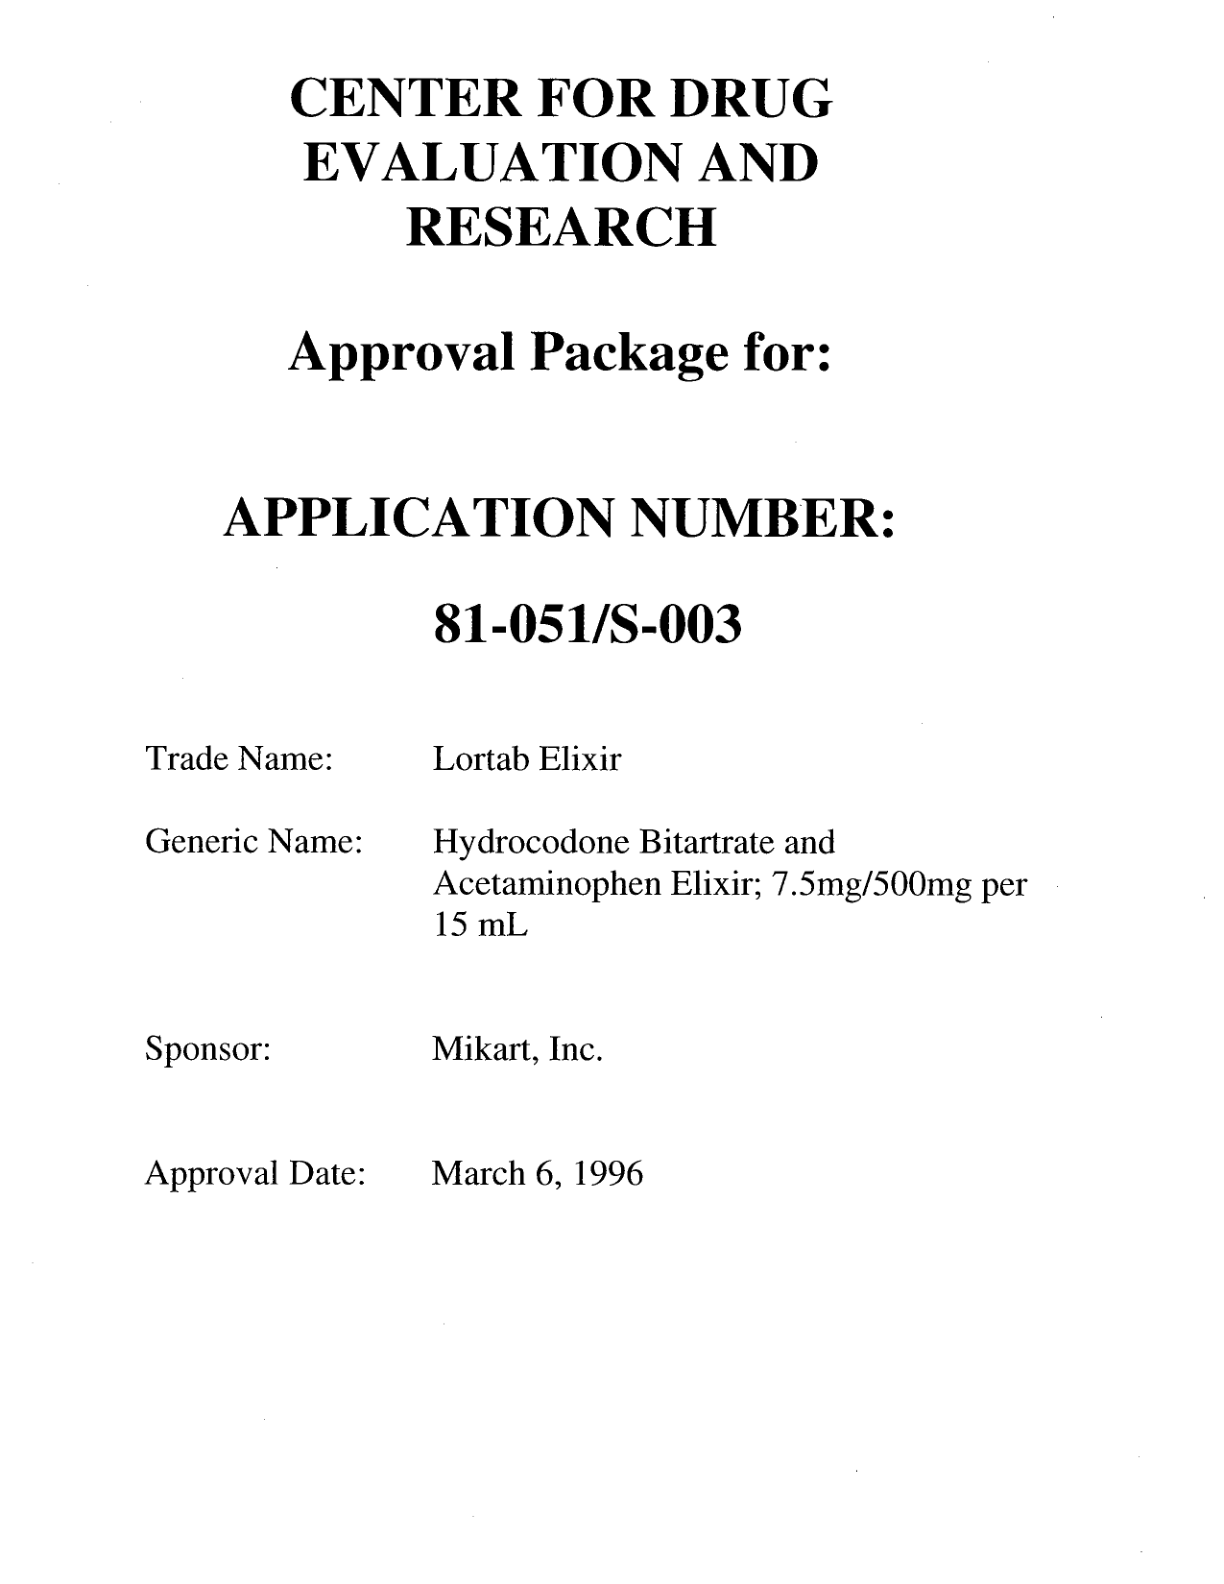nolines: (141, 742, 1029, 1194)
